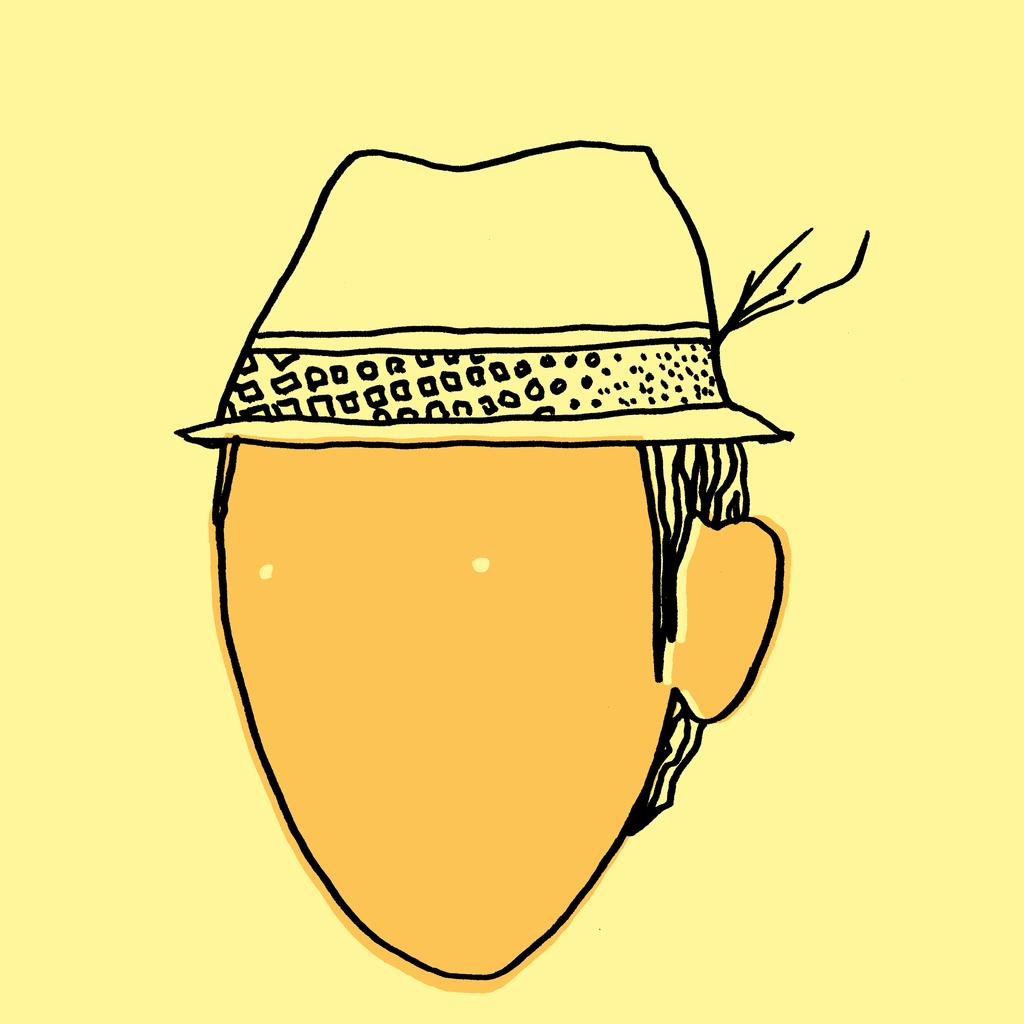Hat: (176, 136, 870, 448)
